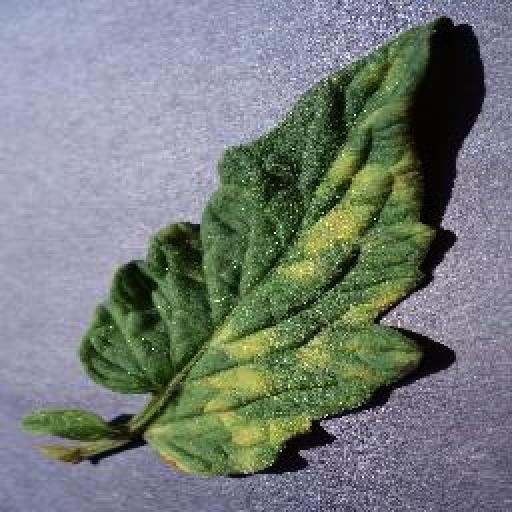disease_tomato: (86, 18, 452, 466)
